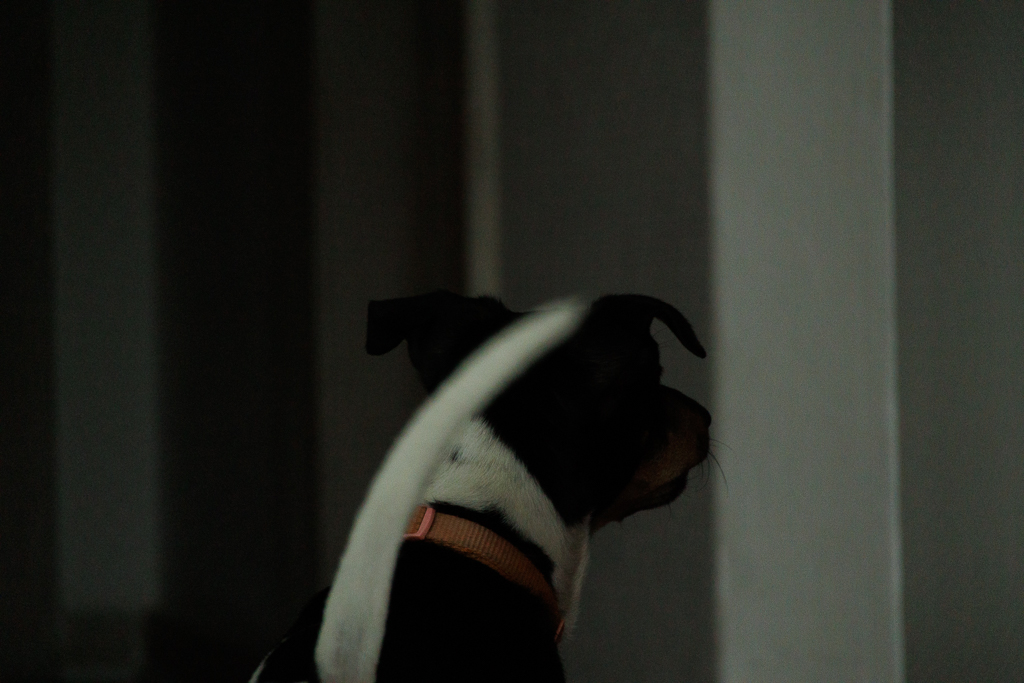Dog: (241, 273, 749, 683)
